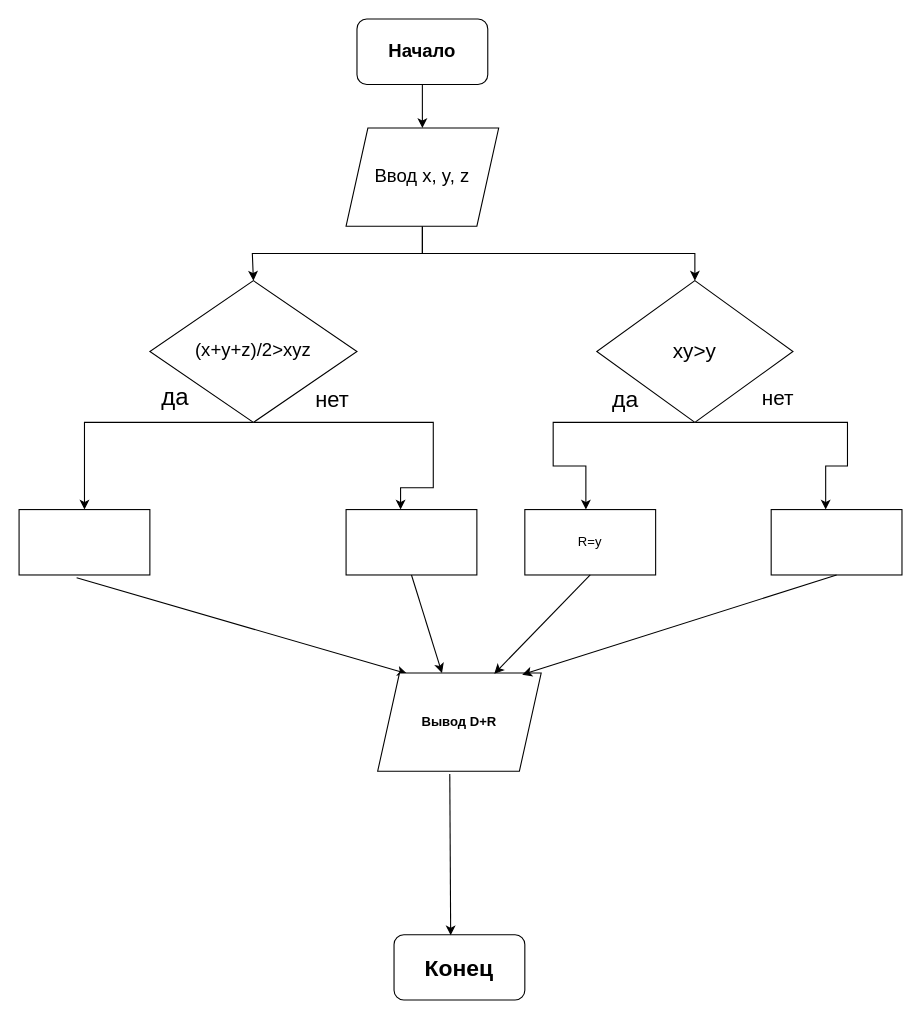
The diagram is 921 pixels wide and 1019 high, and some of its shapes have lost their labels. The centre of each missing label's shape, as x and y in pixels:
D=(x+y+z)/2: (84,541)
D=xyz: (411,541)
R=xy: (836,541)
